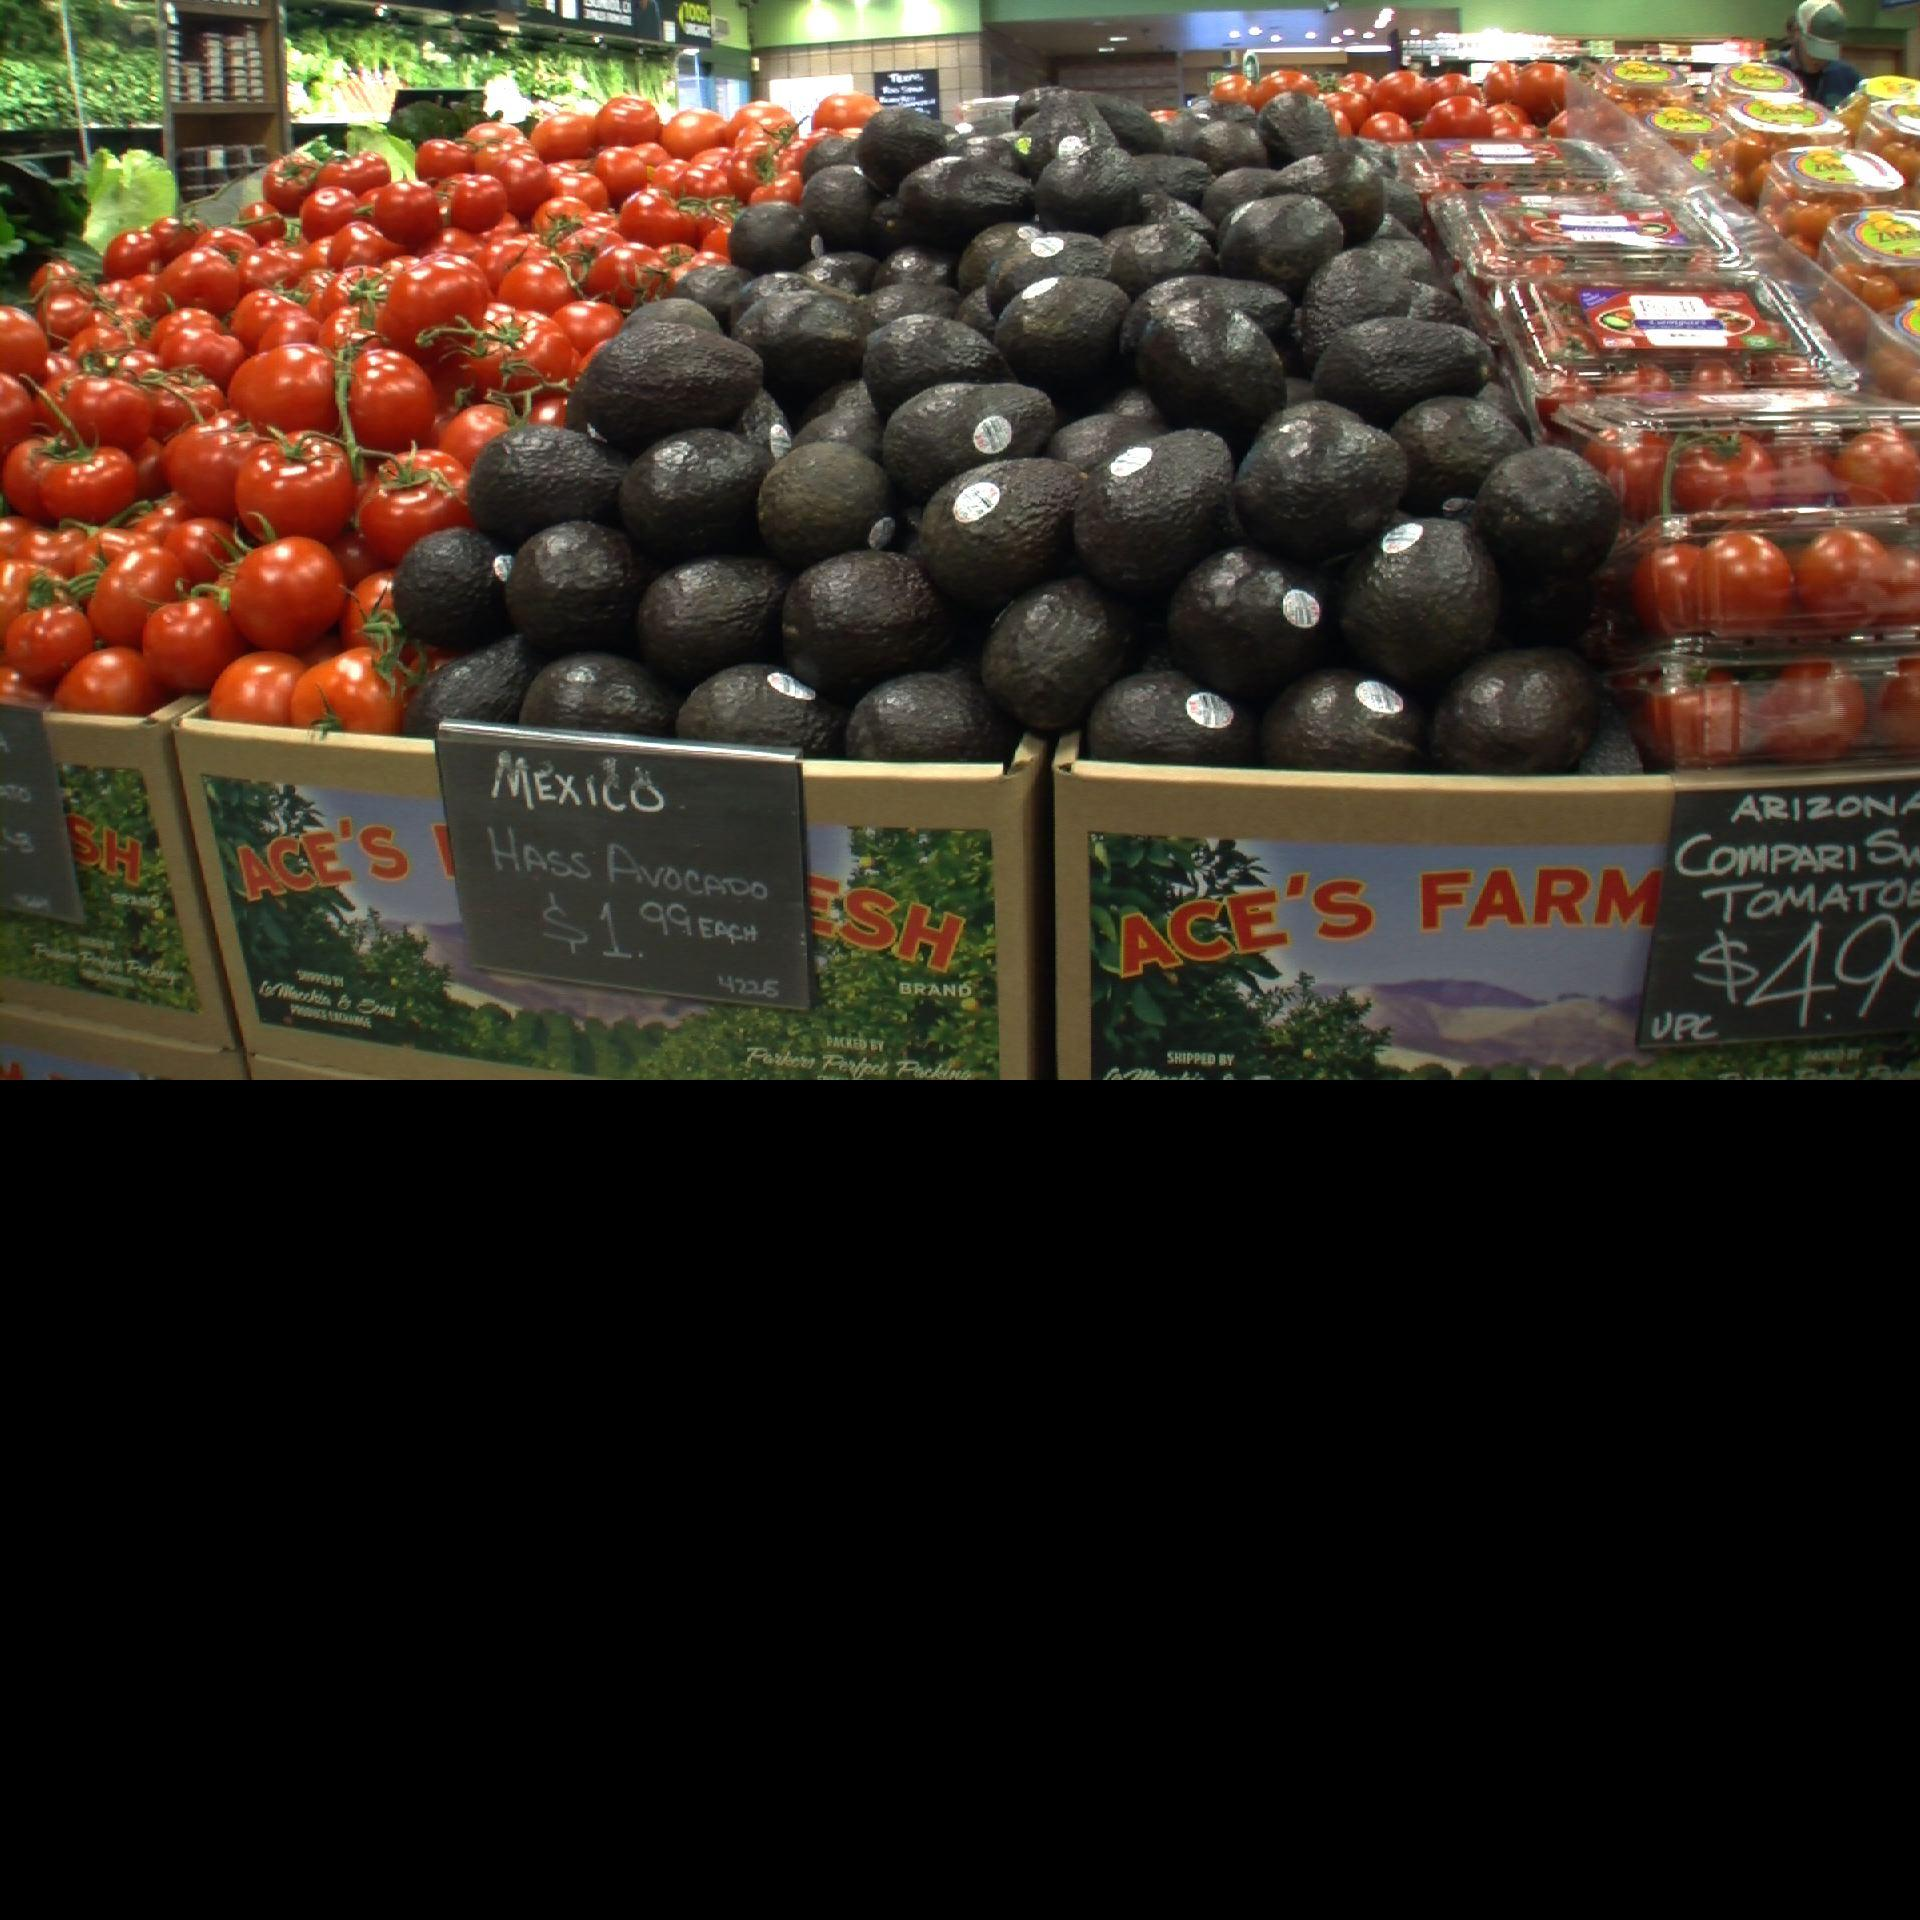ripe: (1335, 519, 1498, 693), (1166, 545, 1335, 707), (920, 457, 1092, 614), (1073, 427, 1233, 591), (979, 577, 1146, 733), (782, 549, 956, 695), (1233, 418, 1408, 554), (580, 322, 765, 447), (1428, 649, 1602, 775), (1468, 447, 1619, 587), (505, 520, 663, 649), (883, 382, 1055, 499), (636, 554, 796, 680), (617, 427, 775, 554), (1136, 297, 1289, 427), (754, 441, 902, 575), (1313, 316, 1496, 424), (469, 424, 629, 543), (1120, 274, 1296, 382), (1389, 396, 1533, 519), (673, 663, 853, 761), (1261, 666, 1428, 772), (863, 313, 1020, 422), (842, 672, 1027, 763), (1087, 670, 1254, 768), (992, 276, 1132, 389), (392, 527, 517, 654), (1301, 246, 1414, 383), (519, 652, 684, 737), (731, 292, 867, 394), (404, 636, 538, 738), (898, 155, 1036, 244), (1217, 193, 1343, 288), (1262, 149, 1387, 244), (985, 230, 1111, 322), (1036, 144, 1141, 232), (856, 105, 958, 192), (1030, 93, 1118, 185), (800, 165, 888, 251), (728, 200, 823, 274), (1255, 91, 1343, 165), (1131, 155, 1218, 211), (1081, 91, 1164, 151)
